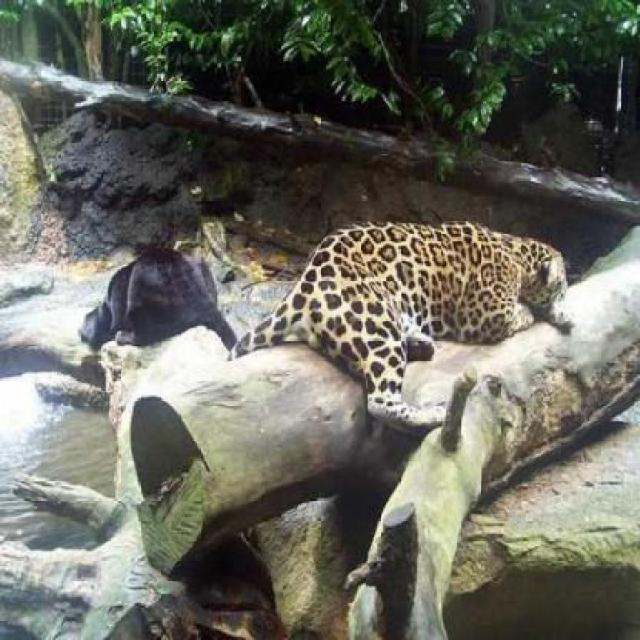Leopard: (136, 162, 639, 460)
